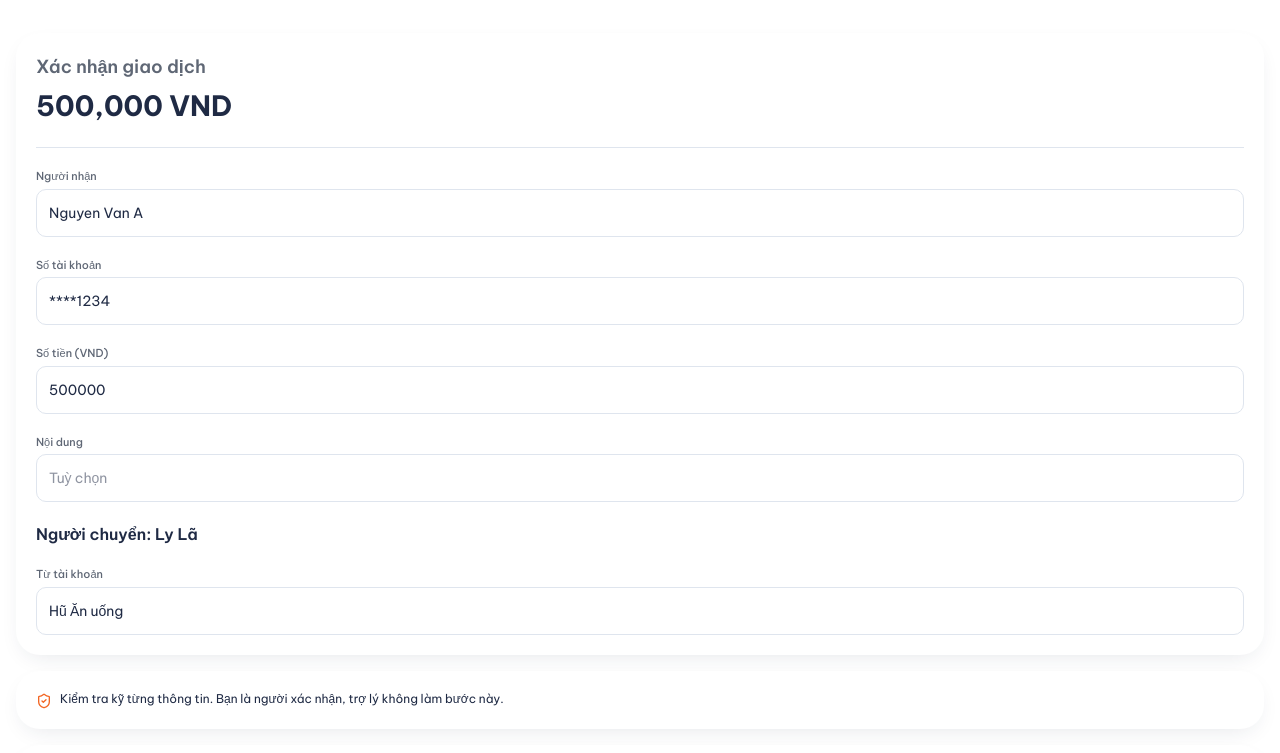
Test case: TransferConfirm — write-path / clock / preview edge fixes › H11/U16: amount above CASA shows the plain 'Số dư không đủ' state — never an empty donor list
Replace the text in the number field showing "500000" with "1500000". click: (640, 390)
box: left=36, top=366, right=1244, bottom=414
(page scrolled)
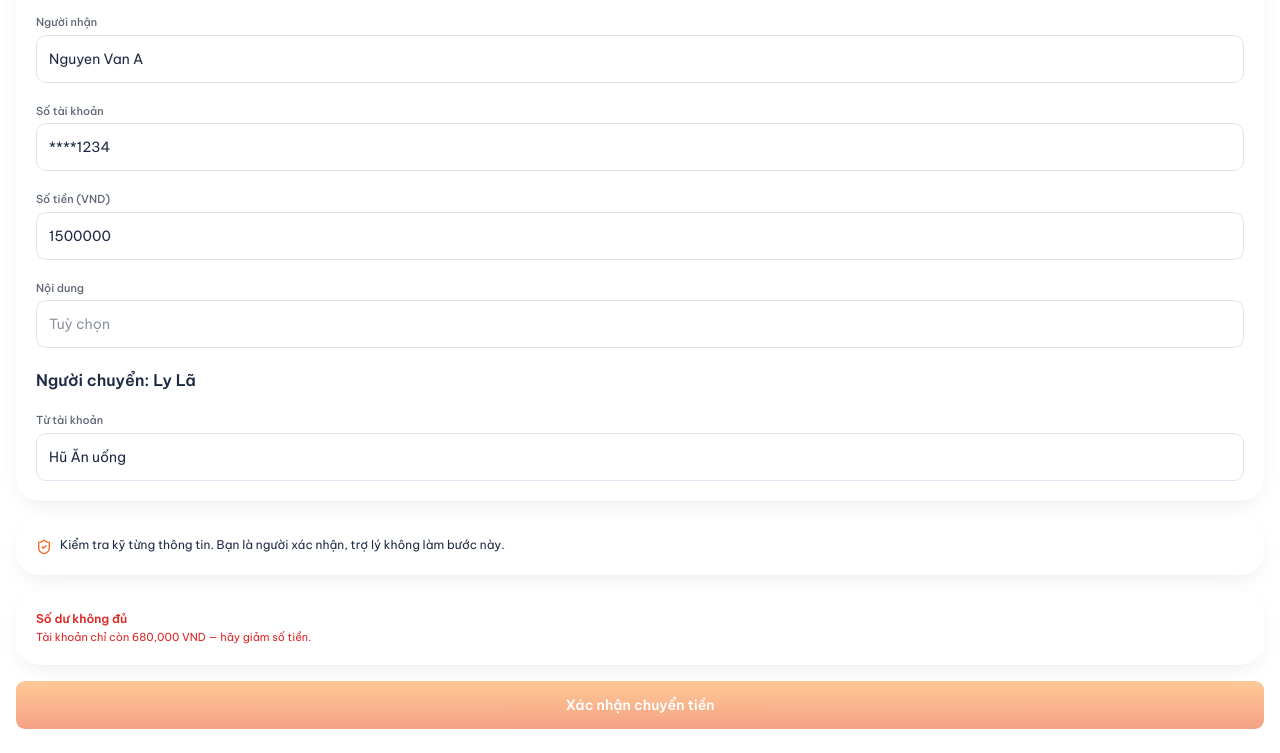
expect the message "Số dư không đủ" shows "680,000": met, box left=36, top=630, right=311, bottom=644
